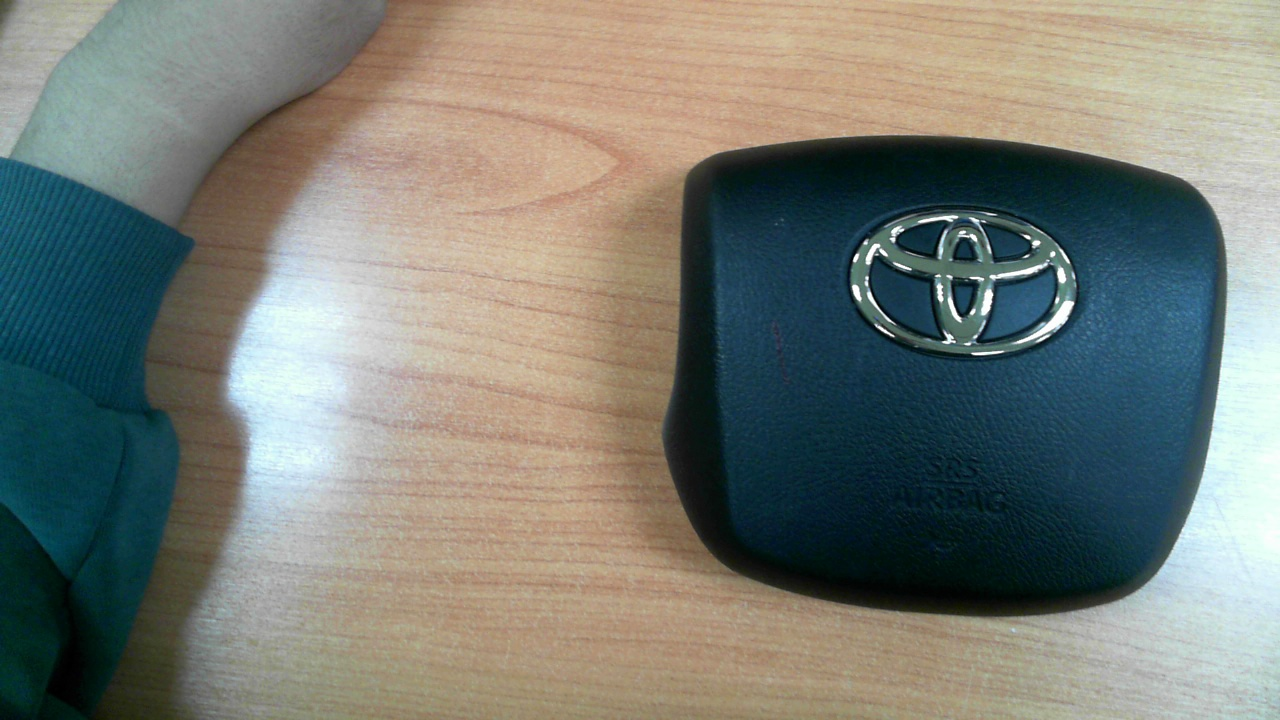Airbag: (667, 140, 1230, 617)
Toyota: (849, 208, 1078, 357)
